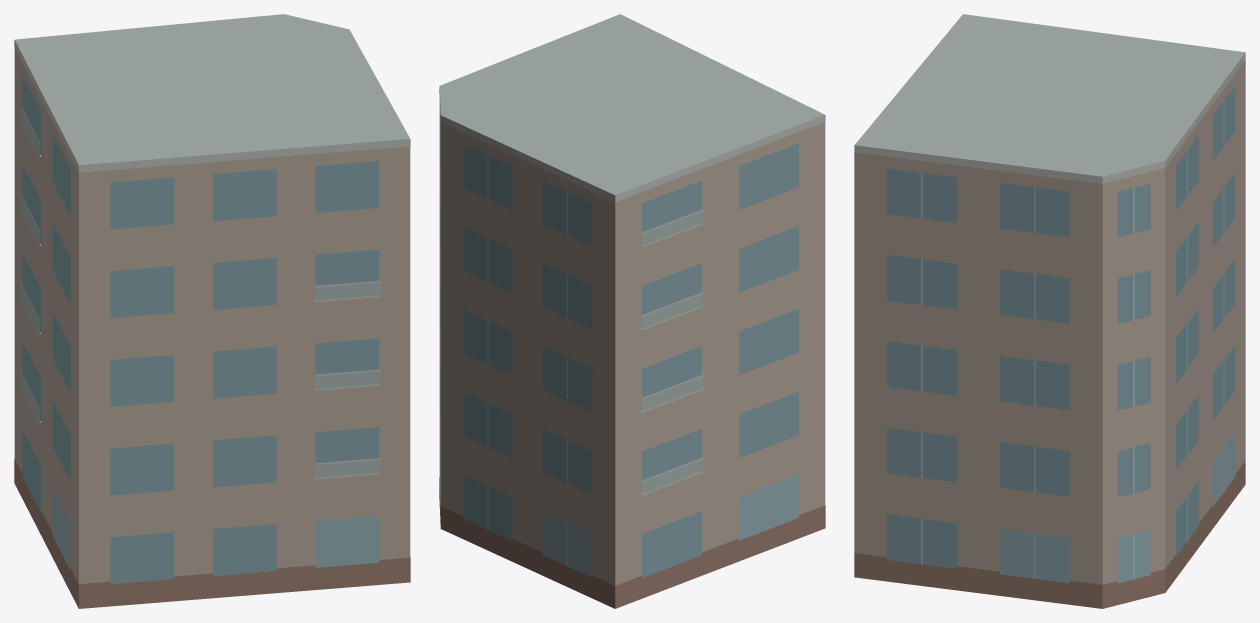
The model's file is survey-upis-32528260.glb.
3 views of the same model, side by side, from view 1: azimuth 30°, elevation 25°; view 2: azimuth 150°, elevation 25°; view 3: azimuth 270°, elevation 25° (orthographic). The views are drawn at different scales.
Parts seen in each view (by area): view 1: survey-upis-32528260.tmp; view 2: survey-upis-32528260.tmp; view 3: survey-upis-32528260.tmp.
Boxes of the visible parts, x1,y1,x2,y2 form: survey-upis-32528260.tmp: (14,14,410,608); survey-upis-32528260.tmp: (439,14,825,608); survey-upis-32528260.tmp: (854,14,1245,608).
Size of the model in its own units: 11.72 by 14.5 by 11.9.
